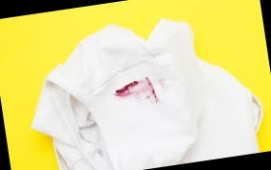lipstick: (112, 74, 159, 111)
